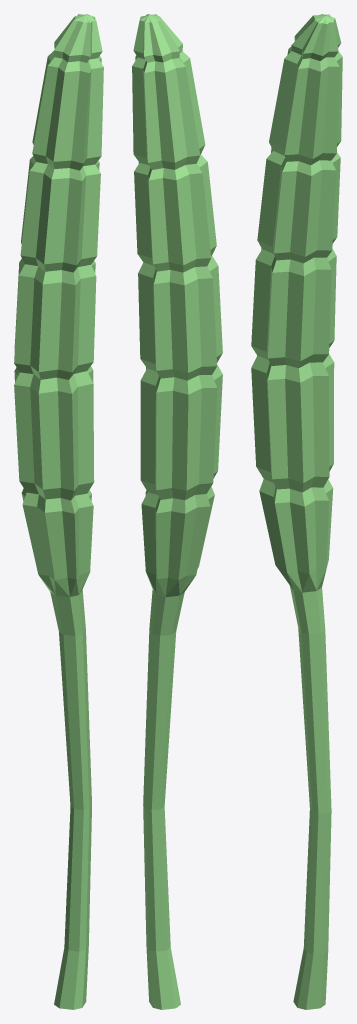
File: StemCactus.fbx
3 renders of one model, left to right at view 1: azimuth 30°, elevation 25°; view 2: azimuth 150°, elevation 25°; view 3: azimuth 330°, elevation 25°, orthographic.
Visible parts, largest first — view 1: StemCactus_Item_LOD0, StemCactus_Base_LOD0; view 2: StemCactus_Item_LOD0, StemCactus_Base_LOD0; view 3: StemCactus_Item_LOD0, StemCactus_Base_LOD0.
Part boxes in pixels (x1,y1,x2,y2): StemCactus_Item_LOD0: (14, 14, 103, 597); StemCactus_Base_LOD0: (50, 589, 91, 1009); StemCactus_Item_LOD0: (132, 14, 222, 597); StemCactus_Base_LOD0: (143, 589, 184, 1009); StemCactus_Item_LOD0: (251, 14, 342, 592); StemCactus_Base_LOD0: (290, 586, 331, 1009).
Size of what is drawn, in the model's own units: 0.0678 by 0.7513 by 0.0601.
